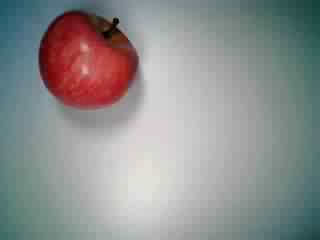apple: (35, 6, 142, 112)
